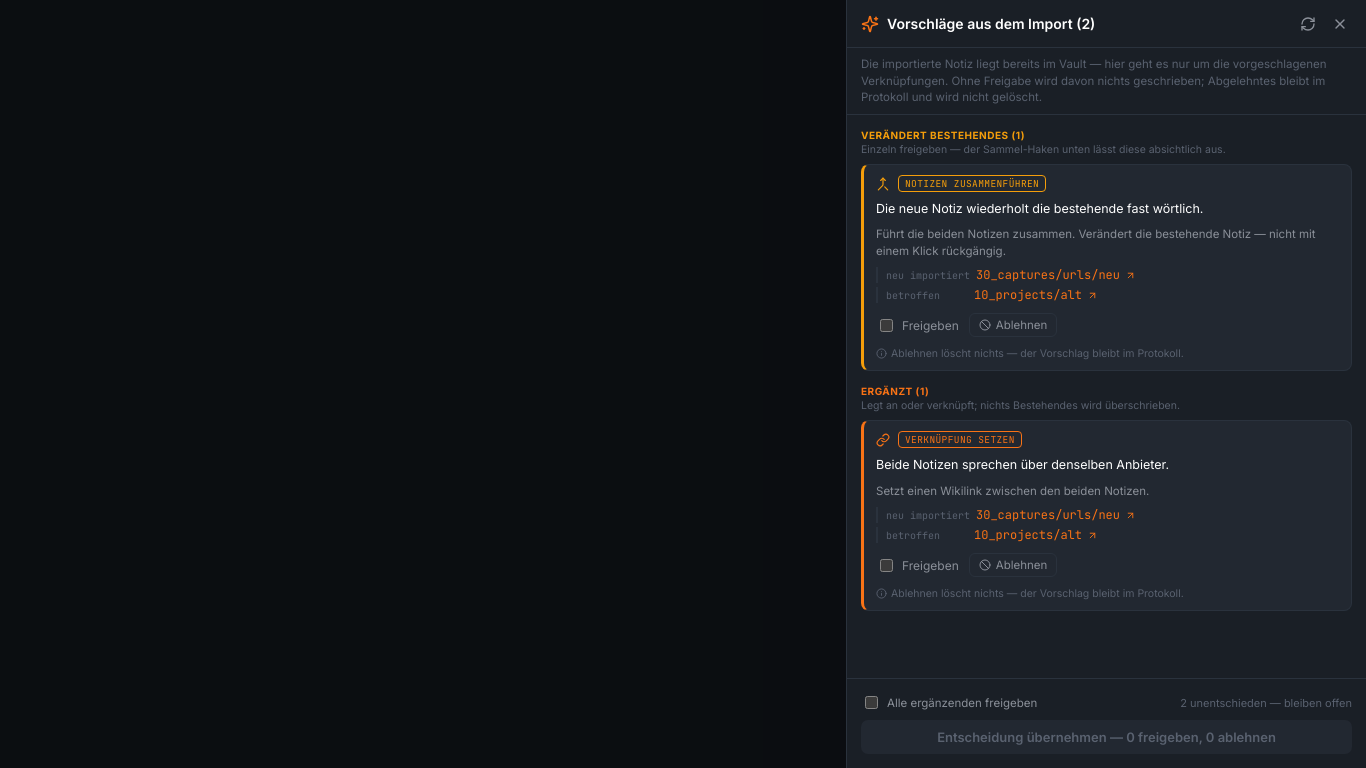
IngestProposalsPanel › unterscheidet folgenschwere von ergänzenden Vorschlägen
This screenshot has width=1366, height=768.
Expected: the element with test id "proposal-01MERGE" is shown, 861,164 -> 1352,372
Click the checkbox with test id "approve-additive" at (872, 702), box 865,696 -> 878,709
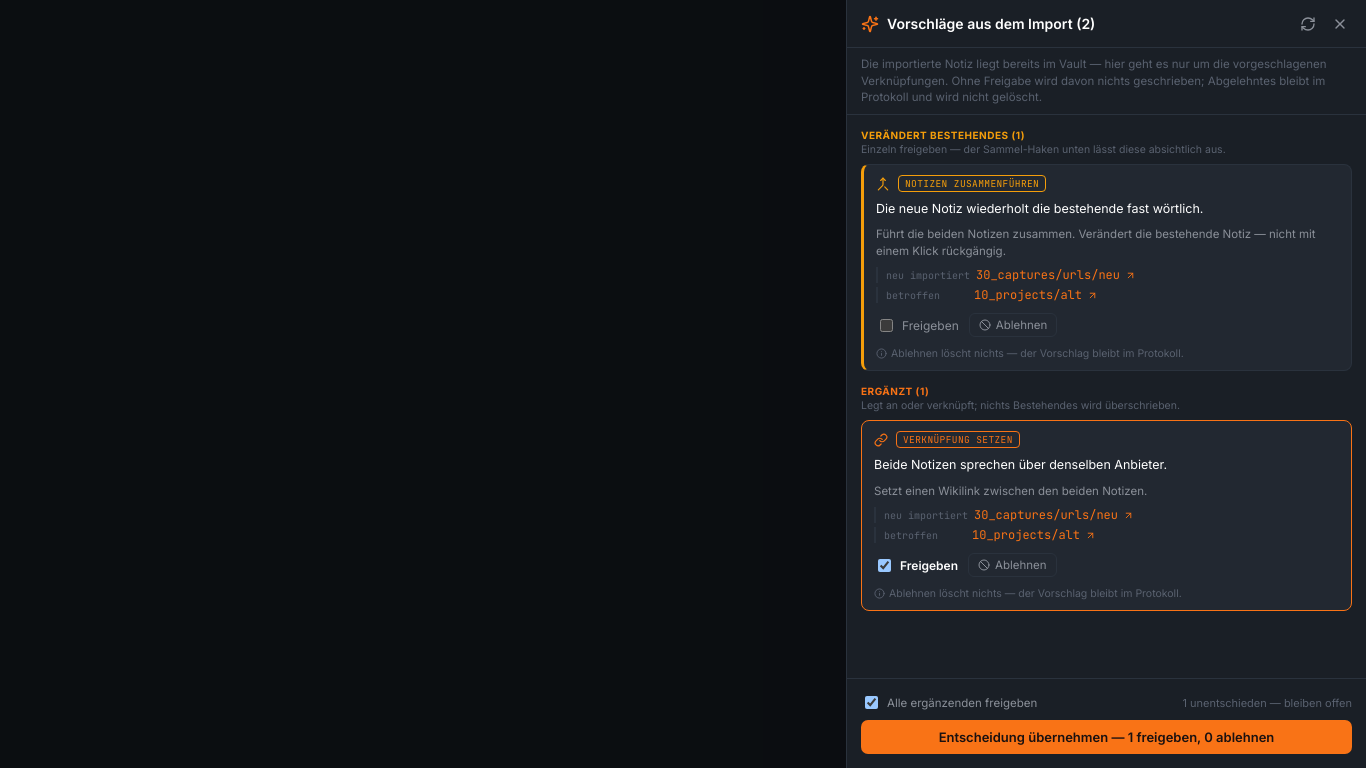
Expected: the checkbox with test id "approve-01MERGE" is not checked, 880,319 -> 893,332
Result: the checkbox with test id "approve-01LINK" is checked at 878,559 -> 891,572
